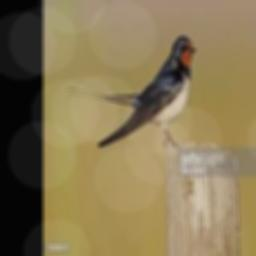Swallow: (67, 34, 196, 146)
